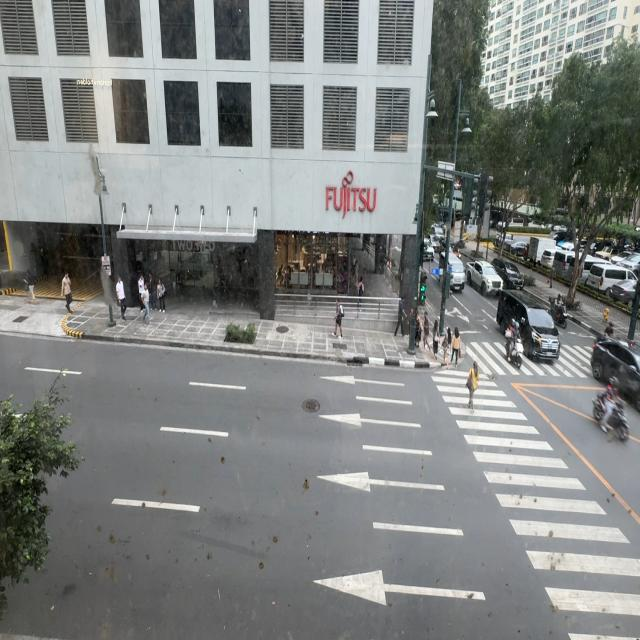crossing: (466, 361, 479, 411), (450, 327, 462, 368), (422, 313, 432, 354), (441, 326, 450, 366), (432, 319, 440, 358)
pedestrain: (115, 276, 126, 320), (333, 296, 344, 338), (61, 271, 72, 313), (141, 283, 151, 324), (422, 313, 432, 354), (414, 313, 424, 351), (138, 273, 146, 313), (157, 279, 166, 314), (357, 276, 365, 315)
